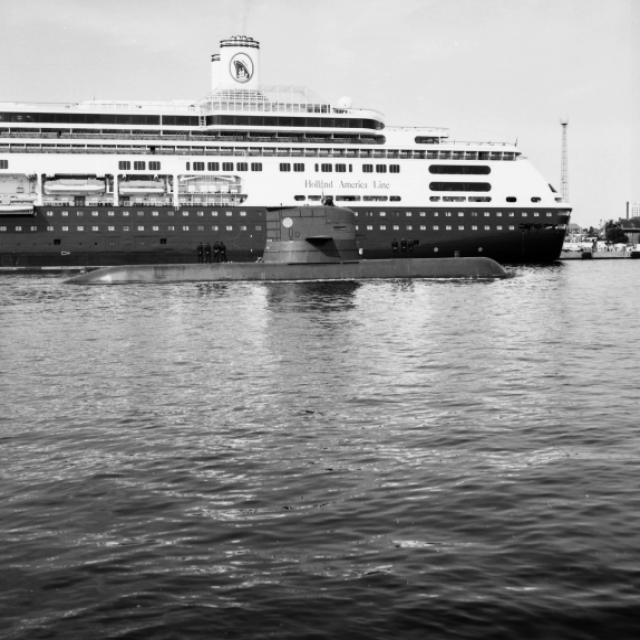submarine: (64, 207, 512, 284)
